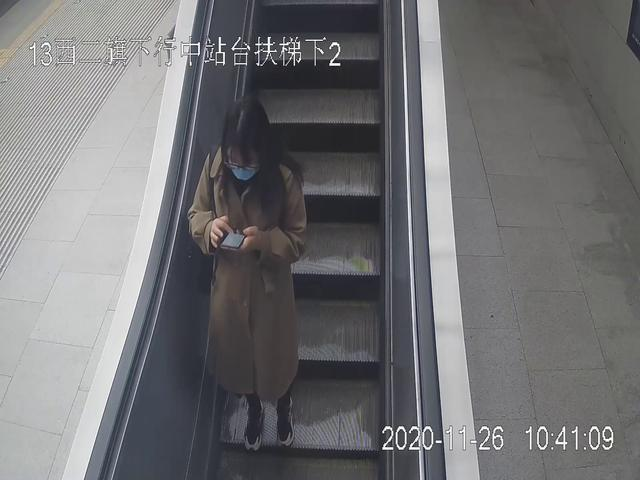person: (188, 99, 308, 450)
